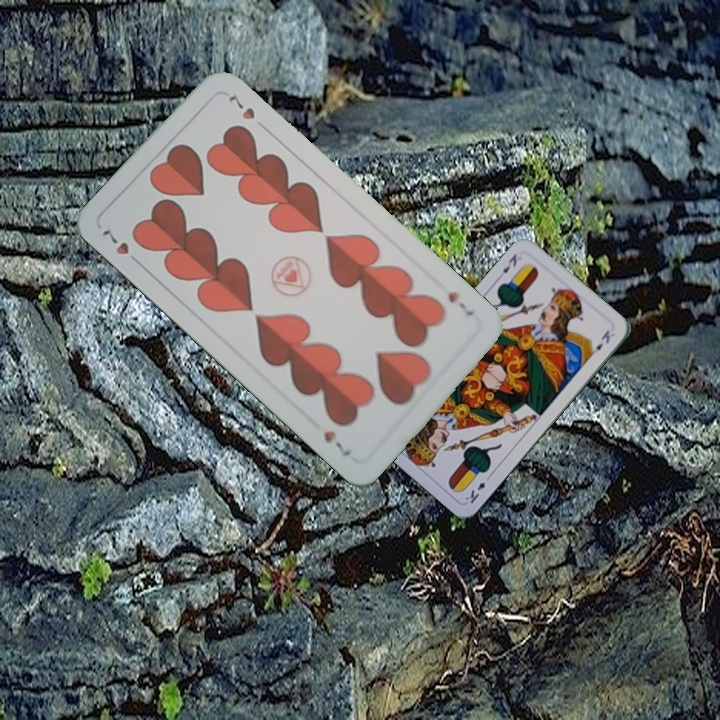EK: (461, 471, 493, 506), (498, 249, 520, 276)
H7: (97, 225, 144, 269), (443, 287, 477, 319)
